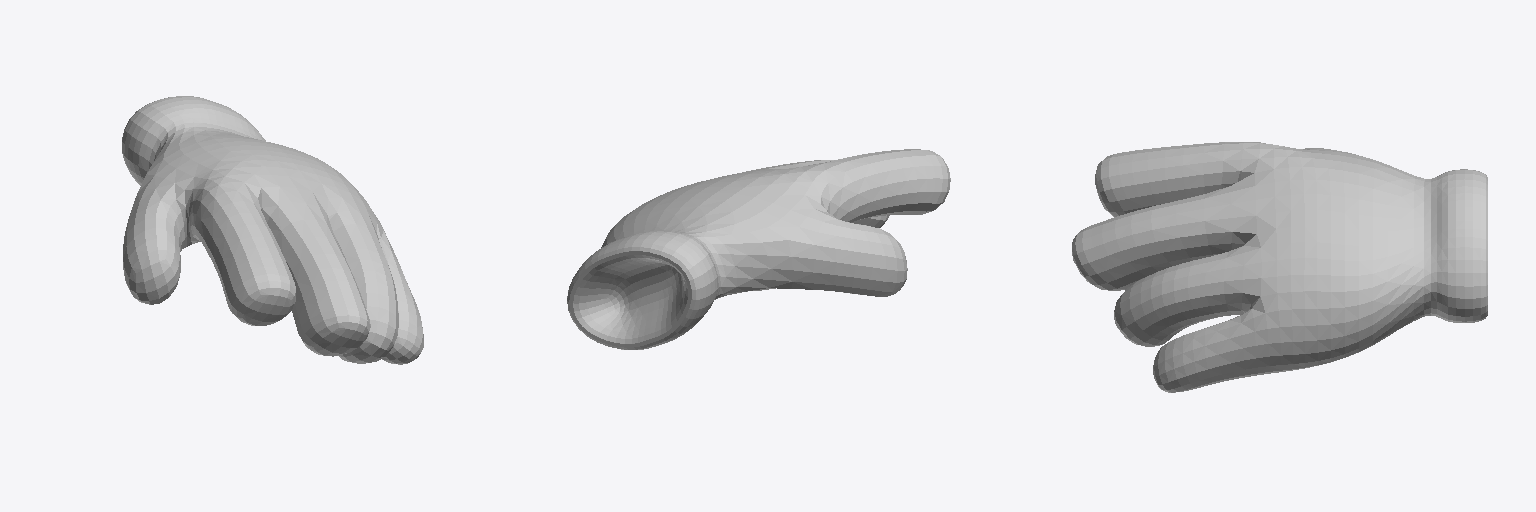
Rendered from Hand_left.obj.
3 renders of one model, left to right at view 1: azimuth 30°, elevation 25°; view 2: azimuth 150°, elevation 25°; view 3: azimuth 270°, elevation 25°, orthographic.
Visible parts, largest first — view 1: Box02; view 2: Box02; view 3: Box02.
Part boxes in pixels (x1,y1,x2,y2): Box02: (122,96,423,364); Box02: (567,149,950,349); Box02: (1072,142,1487,392).
Size of the model in its own units: 0.7299 by 0.4786 by 1.